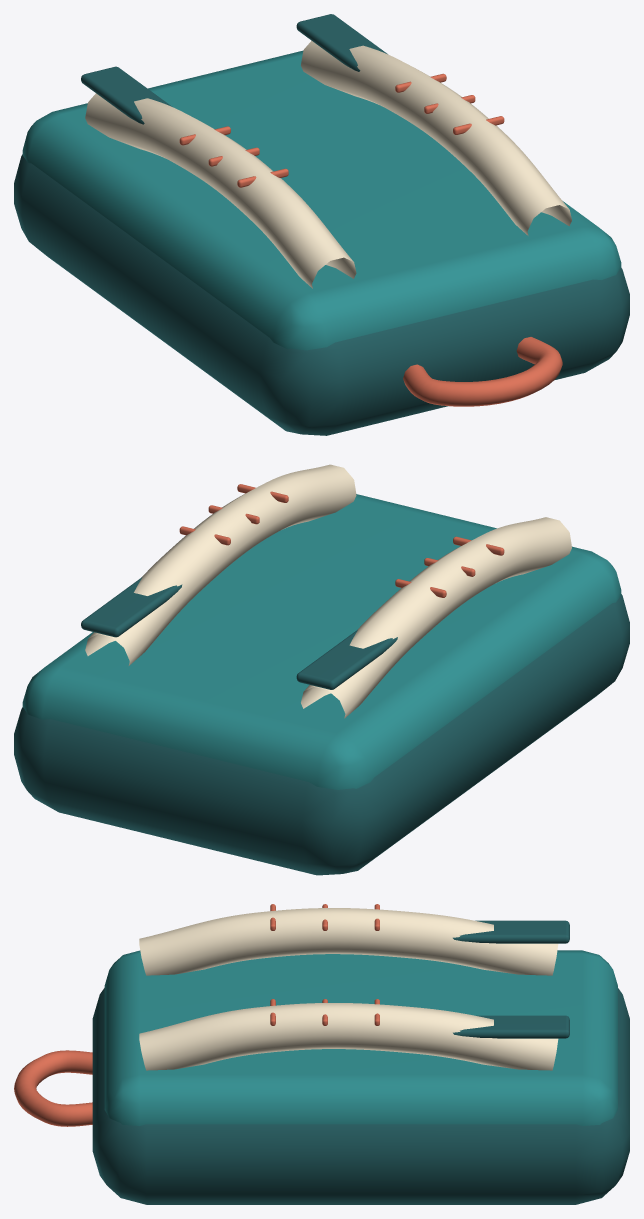
Rendered from BackpackTrialBack.fbx.
The picture shows the model from 3 angles, top to bottom: view 1: azimuth 30°, elevation 25°; view 2: azimuth 150°, elevation 25°; view 3: azimuth 270°, elevation 25°; orthographic projection. The views are drawn at different scales.
Visible parts, largest first — view 1: SoftBagBody, PaddedFabric, ShoulderWebbing.001, ShoulderWebbing, CarryHandle, AdjustmentTail, AdjustmentTail.001; view 2: SoftBagBody, PaddedFabric, ShoulderWebbing.001, ShoulderWebbing, AdjustmentTail, AdjustmentTail.001; view 3: SoftBagBody, PaddedFabric, ShoulderWebbing, ShoulderWebbing.001, CarryHandle, AdjustmentTail, AdjustmentTail.001.
Part boxes in pixels (left/top/right/bottom): SoftBagBody: left=22, top=50, right=621, bottom=350; PaddedFabric: left=14, top=154, right=629, bottom=435; ShoulderWebbing.001: left=301, top=40, right=571, bottom=235; ShoulderWebbing: left=85, top=93, right=356, bottom=288; CarryHandle: left=403, top=337, right=562, bottom=406; AdjustmentTail: left=81, top=66, right=172, bottom=124; AdjustmentTail.001: left=296, top=14, right=387, bottom=71; SoftBagBody: left=22, top=494, right=621, bottom=789; PaddedFabric: left=14, top=594, right=629, bottom=875; ShoulderWebbing.001: left=85, top=464, right=356, bottom=665; ShoulderWebbing: left=301, top=517, right=571, bottom=718; AdjustmentTail: left=296, top=630, right=397, bottom=689; AdjustmentTail.001: left=81, top=577, right=182, bottom=637; SoftBagBody: left=104, top=950, right=617, bottom=1125; PaddedFabric: left=92, top=988, right=629, bottom=1204; ShoulderWebbing: left=139, top=908, right=558, bottom=975; ShoulderWebbing.001: left=139, top=1003, right=558, bottom=1070; CarryHandle: left=14, top=1050, right=92, bottom=1126; AdjustmentTail: left=453, top=920, right=569, bottom=943; AdjustmentTail.001: left=453, top=1015, right=569, bottom=1038.
Size of the model in its own units: 47 by 25.41 by 76.8.
